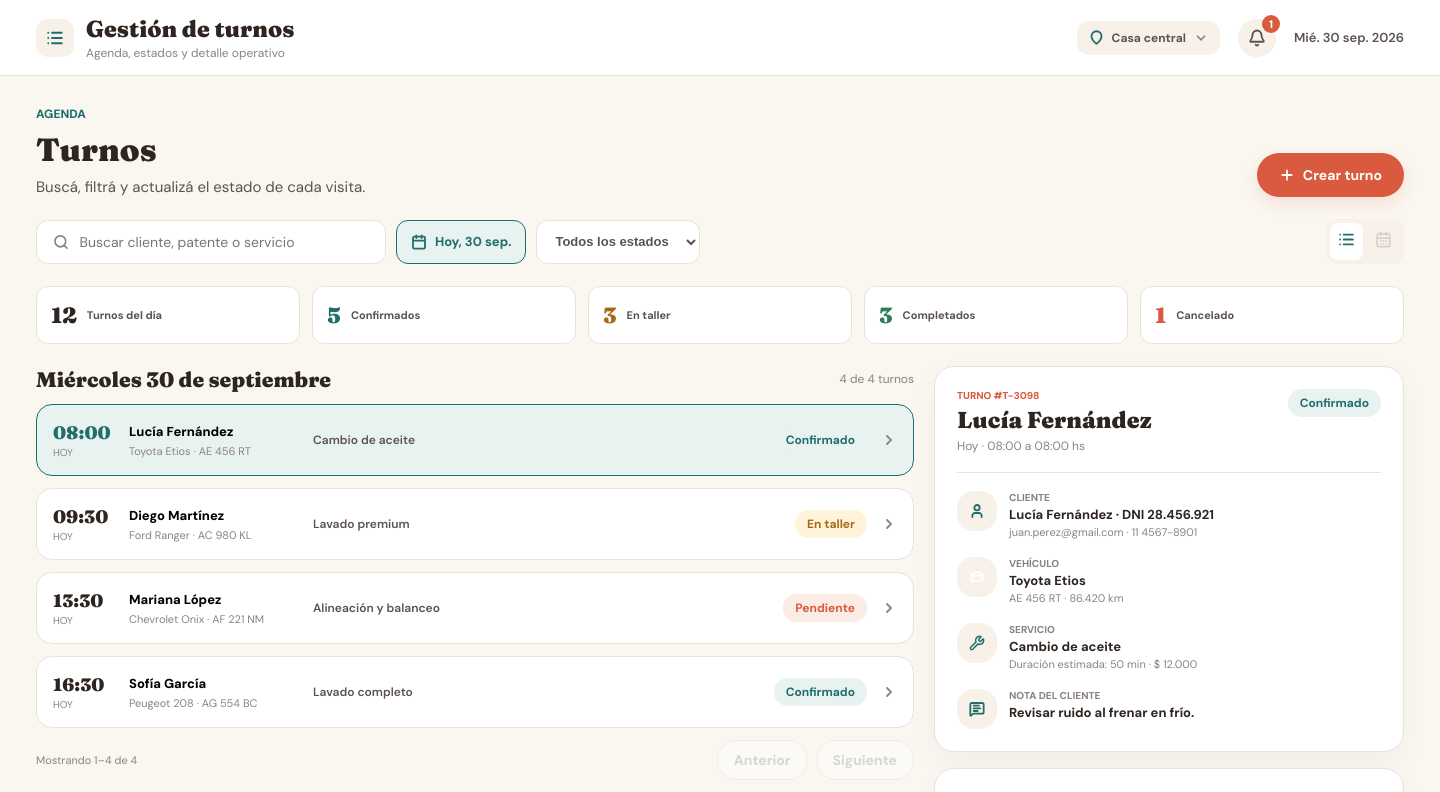
Dashboard, turnos y servicios › turnos filtra por búsqueda
This screenshot has width=1440, height=792.
In the field with placeholder "Buscar cliente, patente o servicio": x=224, y=242 [80,232,369,250], type "mariana"
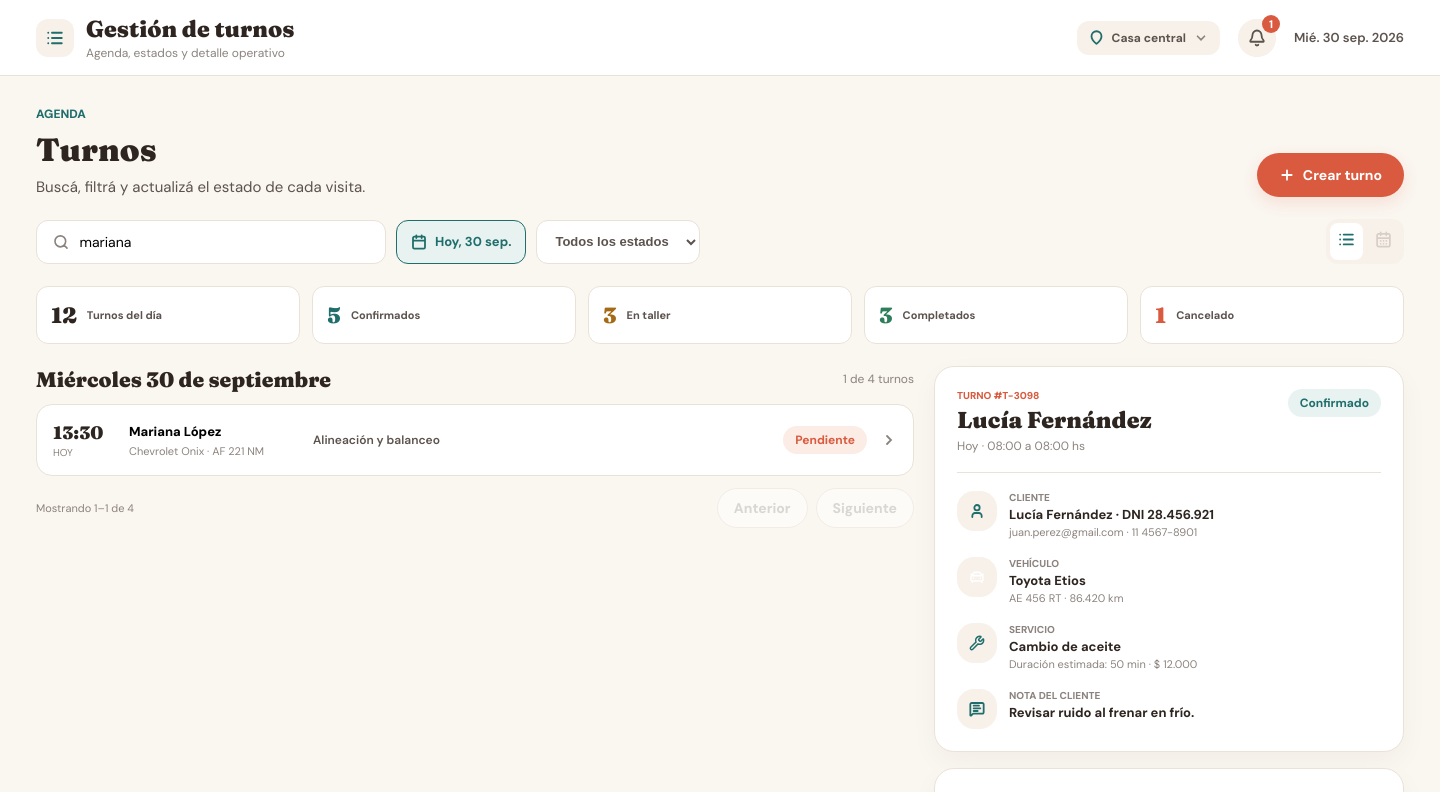
Expected: the text "Mariana López" is shown, [129,422,221,440]
Expected: the button "Sofía García" is gone
